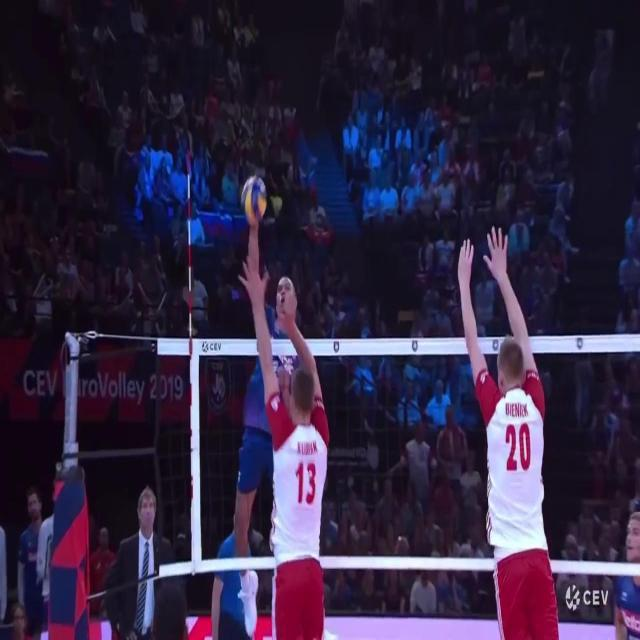volleyball: (240, 174, 266, 223)
